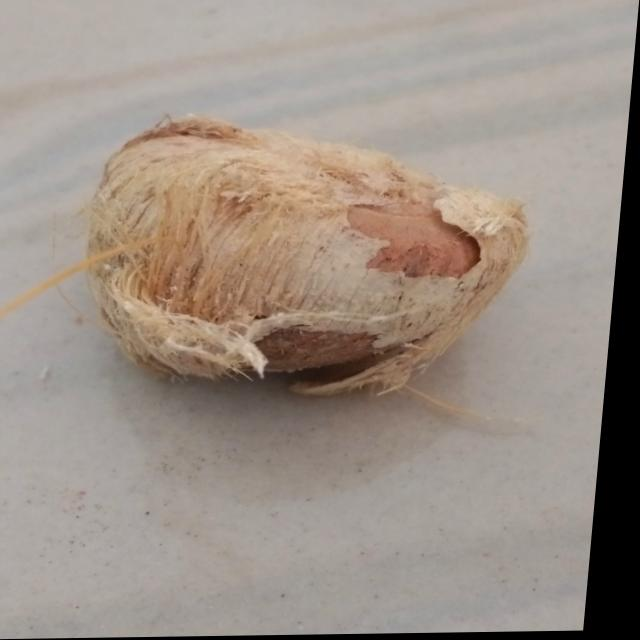phatora: (57, 91, 569, 415)
